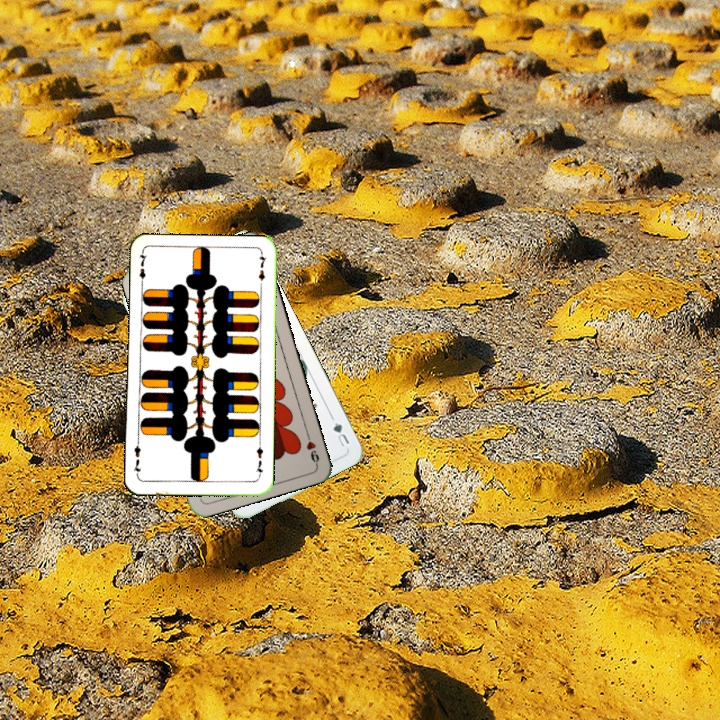E7: (135, 249, 149, 290), (252, 439, 265, 480)
GU: (329, 418, 352, 451)
H9: (302, 427, 322, 467)
